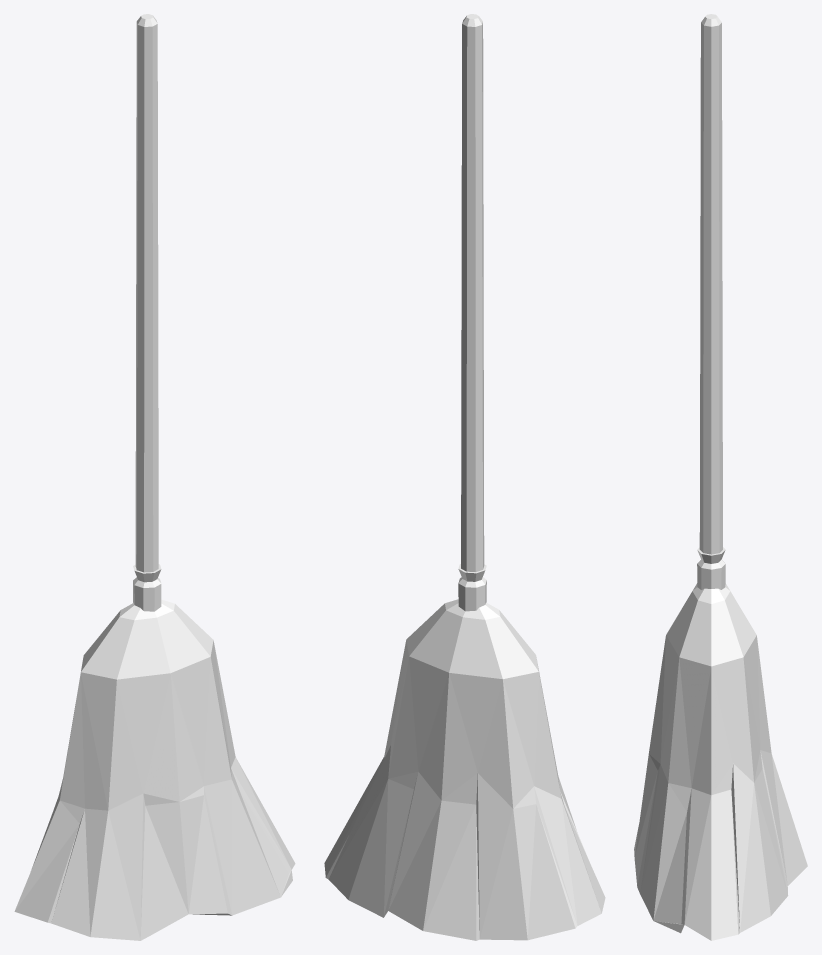
The model's file is Tool_Broom_01.glb.
The picture shows the model from 3 angles, left to right: view 1: azimuth 30°, elevation 25°; view 2: azimuth 150°, elevation 25°; view 3: azimuth 270°, elevation 25°; orthographic projection. The views are drawn at different scales.
Parts seen in each view (by area): view 1: Tool_Broom_01; view 2: Tool_Broom_01; view 3: Tool_Broom_01.
Boxes of the visible parts, bbox=[...] form: Tool_Broom_01: bbox=[14, 14, 295, 940]; Tool_Broom_01: bbox=[324, 14, 605, 940]; Tool_Broom_01: bbox=[634, 14, 807, 940].
Size of the model in its own units: 0.5658 by 1.71 by 0.3155.
1 material, 1 textured.
